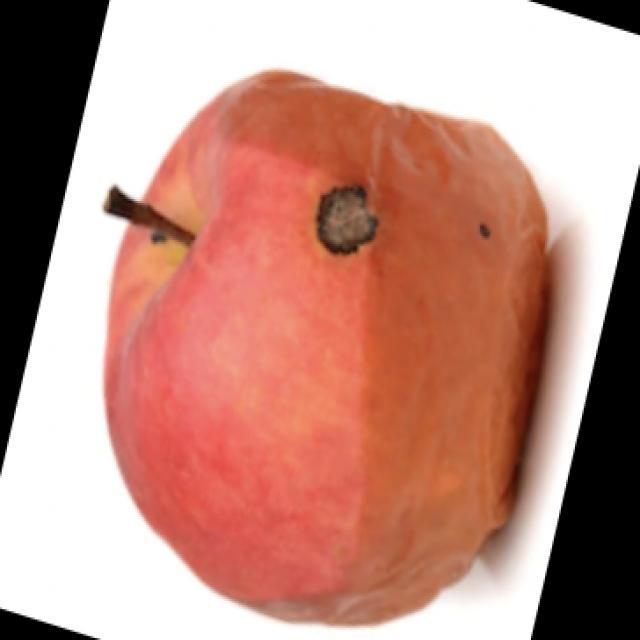Rotten: (107, 65, 555, 625)
